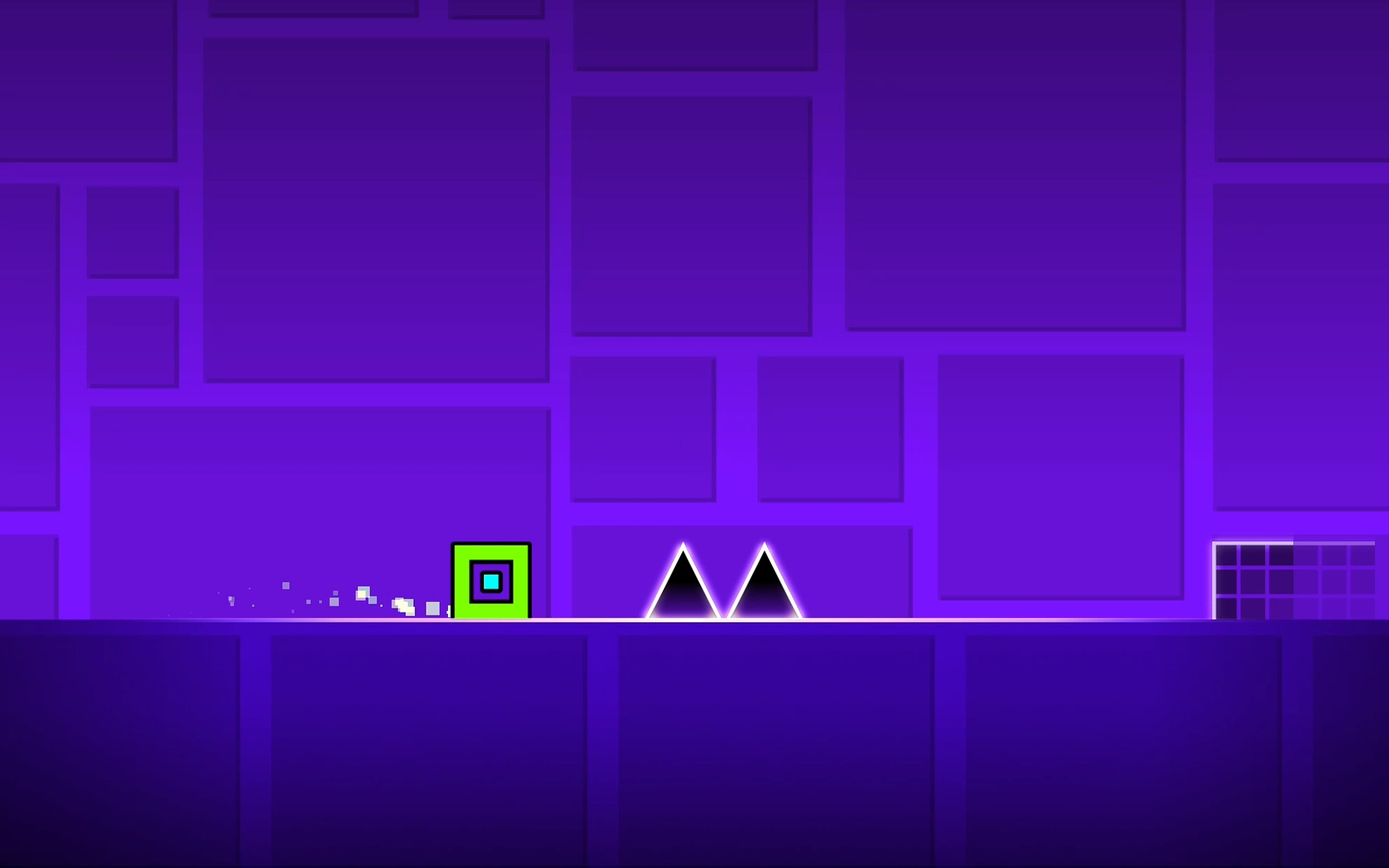Block2: (1213, 542, 1387, 619)
Player: (450, 542, 531, 616)
Spike: (644, 542, 720, 618), (727, 542, 803, 618)
